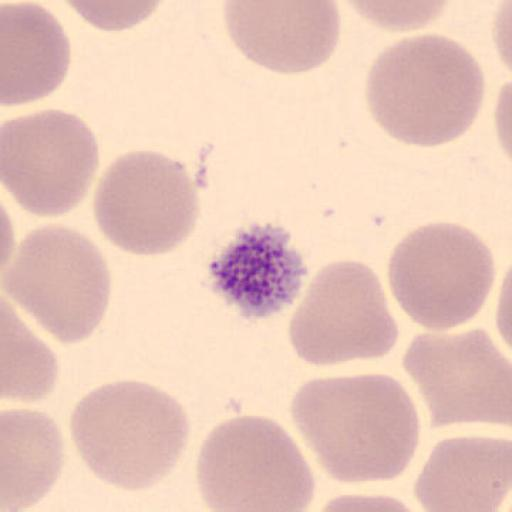Platelet: (205, 220, 311, 320)
RBC: (289, 371, 421, 487), (363, 32, 486, 150), (67, 378, 192, 492), (4, 222, 113, 346), (386, 220, 496, 334), (287, 258, 400, 368), (194, 412, 318, 512), (92, 148, 201, 258), (401, 327, 512, 428), (3, 106, 101, 218), (220, 0, 343, 76), (412, 434, 512, 512), (2, 1, 72, 108), (0, 407, 66, 512), (1, 301, 60, 406), (337, 0, 454, 34), (61, 0, 165, 34), (306, 492, 428, 511), (490, 0, 512, 103), (493, 256, 512, 369), (493, 78, 512, 162), (490, 0, 512, 70), (495, 271, 512, 358), (1, 200, 16, 277)
